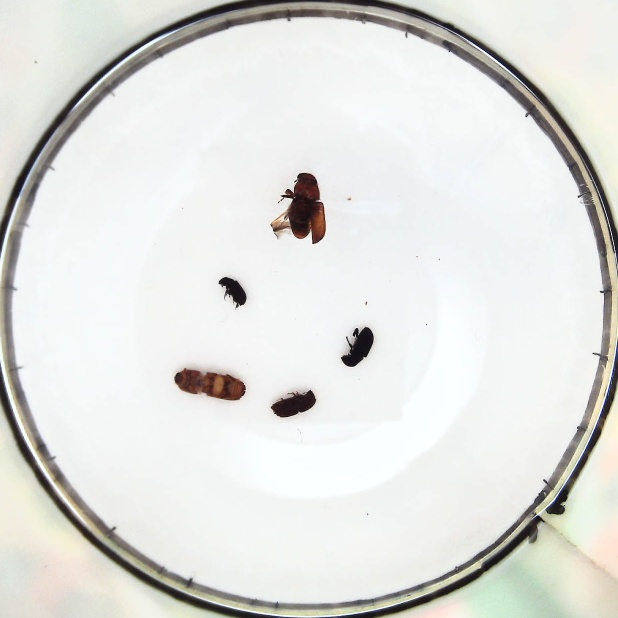armandi: (338, 326, 375, 368)
boerner: (172, 370, 245, 403)
coleoptera: (218, 273, 249, 310)
leconte: (272, 170, 328, 248)
linnaeus: (272, 390, 314, 423)
